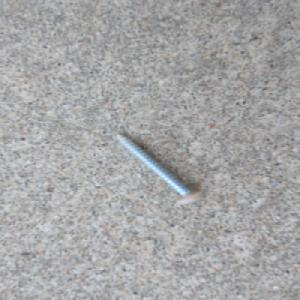Screw: (113, 131, 207, 205)
